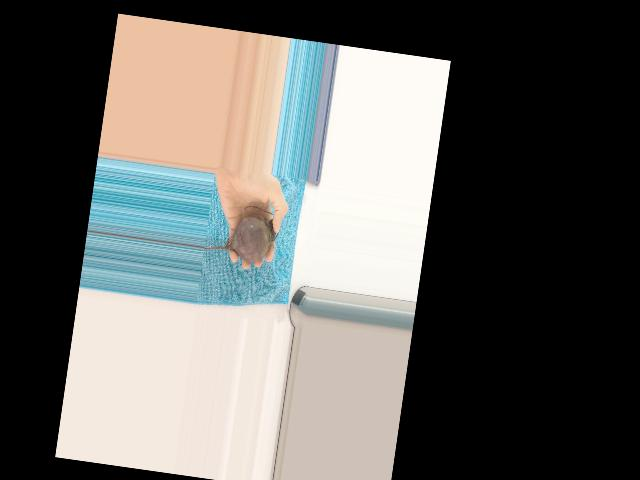beet: (202, 200, 281, 266)
